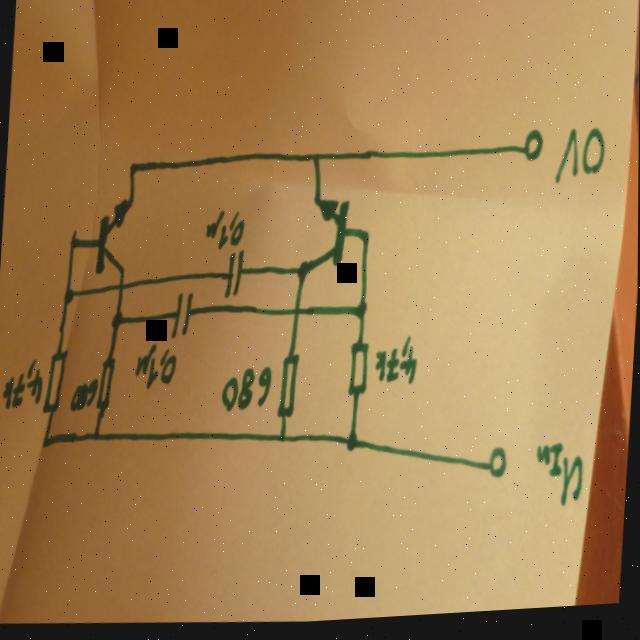capacitor: (170, 293, 197, 343), (224, 252, 247, 303)
crossover: (291, 309, 304, 324), (115, 281, 128, 295)
junction: (345, 435, 362, 459), (354, 305, 370, 327), (298, 261, 311, 287), (63, 288, 78, 309), (112, 311, 126, 333), (41, 433, 54, 454), (69, 231, 80, 254), (361, 233, 372, 251), (129, 162, 140, 180), (311, 154, 324, 169), (92, 430, 103, 446), (277, 436, 290, 449)
resistor: (43, 349, 70, 417), (278, 356, 301, 424), (349, 344, 372, 406), (97, 357, 118, 415)
terminal: (521, 135, 546, 172), (486, 452, 510, 486)
text: (534, 447, 587, 517), (556, 134, 607, 195), (222, 369, 275, 419), (374, 339, 421, 393), (135, 343, 179, 395), (2, 359, 45, 412), (205, 212, 247, 256), (71, 380, 99, 414)
transistor: (310, 200, 351, 278), (95, 197, 134, 279)
